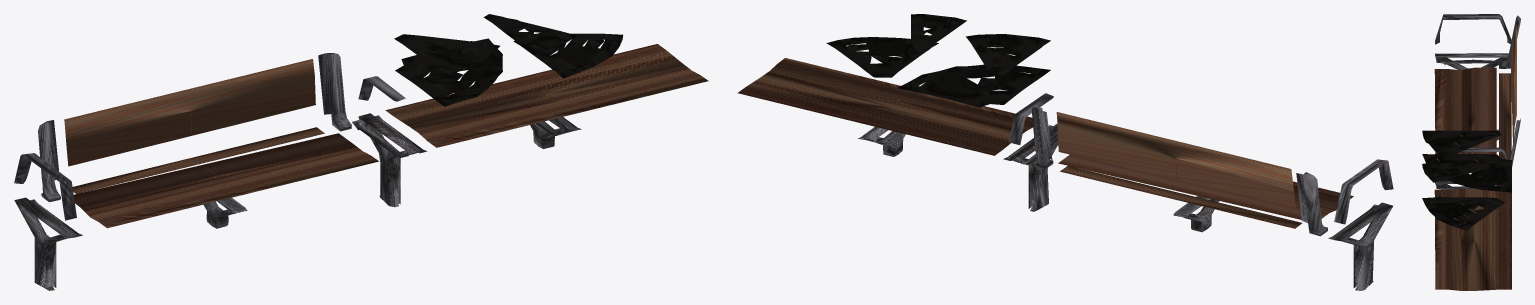
The model's file is modular_street_seating.gltf.
3 views of the same model, side by side, from view 1: azimuth 30°, elevation 25°; view 2: azimuth 150°, elevation 25°; view 3: azimuth 270°, elevation 25° (orthographic). The views are drawn at different scales.
Parts seen in each view (by area): view 1: seat, seat_bench, seat_back, connector_90, legs_double, legs_single, connector_45, connector_60, back_support_l, connector_30, arm_rest_01, back_support_r (+3 smaller); view 2: seat_bench, seat_back, seat, connector_90, connector_60, legs_single, connector_45, legs_double, connector_30, back_support_r, arm_rest_01, back_support_l (+3 smaller); view 3: seat_bench, seat, connector_90, connector_60, connector_45, connector_30, legs_single, seat_back, arm_rest_01, back_support_r, arm_rest_02, legs_double (+1 smaller).
Part boxes in pixels (bbox=[...]): seat: bbox=[72, 127, 378, 228]; seat_bench: bbox=[385, 44, 708, 147]; seat_back: bbox=[64, 59, 315, 166]; connector_90: bbox=[395, 38, 502, 106]; legs_double: bbox=[352, 113, 427, 207]; legs_single: bbox=[14, 197, 82, 290]; connector_45: bbox=[394, 34, 499, 75]; connector_60: bbox=[513, 33, 623, 78]; back_support_l: bbox=[318, 53, 351, 131]; connector_30: bbox=[483, 14, 577, 54]; arm_rest_01: bbox=[14, 153, 76, 220]; back_support_r: bbox=[38, 120, 60, 202]; seat_bench: bbox=[737, 58, 1032, 155]; seat_back: bbox=[1056, 112, 1295, 207]; seat: bbox=[1058, 154, 1353, 228]; connector_90: bbox=[897, 64, 1050, 107]; connector_60: bbox=[826, 37, 938, 77]; legs_single: bbox=[1328, 202, 1392, 290]; connector_45: bbox=[966, 34, 1050, 76]; legs_double: bbox=[1003, 123, 1058, 211]; connector_30: bbox=[911, 14, 966, 54]; back_support_r: bbox=[1296, 172, 1327, 236]; arm_rest_01: bbox=[1334, 159, 1393, 224]; back_support_l: bbox=[1031, 107, 1053, 169]; seat_bench: bbox=[1434, 188, 1511, 290]; seat: bbox=[1434, 67, 1511, 169]; connector_90: bbox=[1422, 153, 1511, 192]; connector_60: bbox=[1422, 197, 1504, 230]; connector_45: bbox=[1422, 130, 1501, 157]; connector_30: bbox=[1422, 162, 1500, 182]; legs_single: bbox=[1435, 53, 1508, 69]; seat_back: bbox=[1510, 24, 1516, 142]; arm_rest_01: bbox=[1435, 14, 1511, 44]; back_support_r: bbox=[1499, 15, 1520, 68]; arm_rest_02: bbox=[1460, 147, 1508, 159]; legs_double: bbox=[1435, 179, 1501, 189].
Size of the model in its own units: 4.34 by 0.95 by 0.7673.
Materials: 4 (4 with a texture image).
